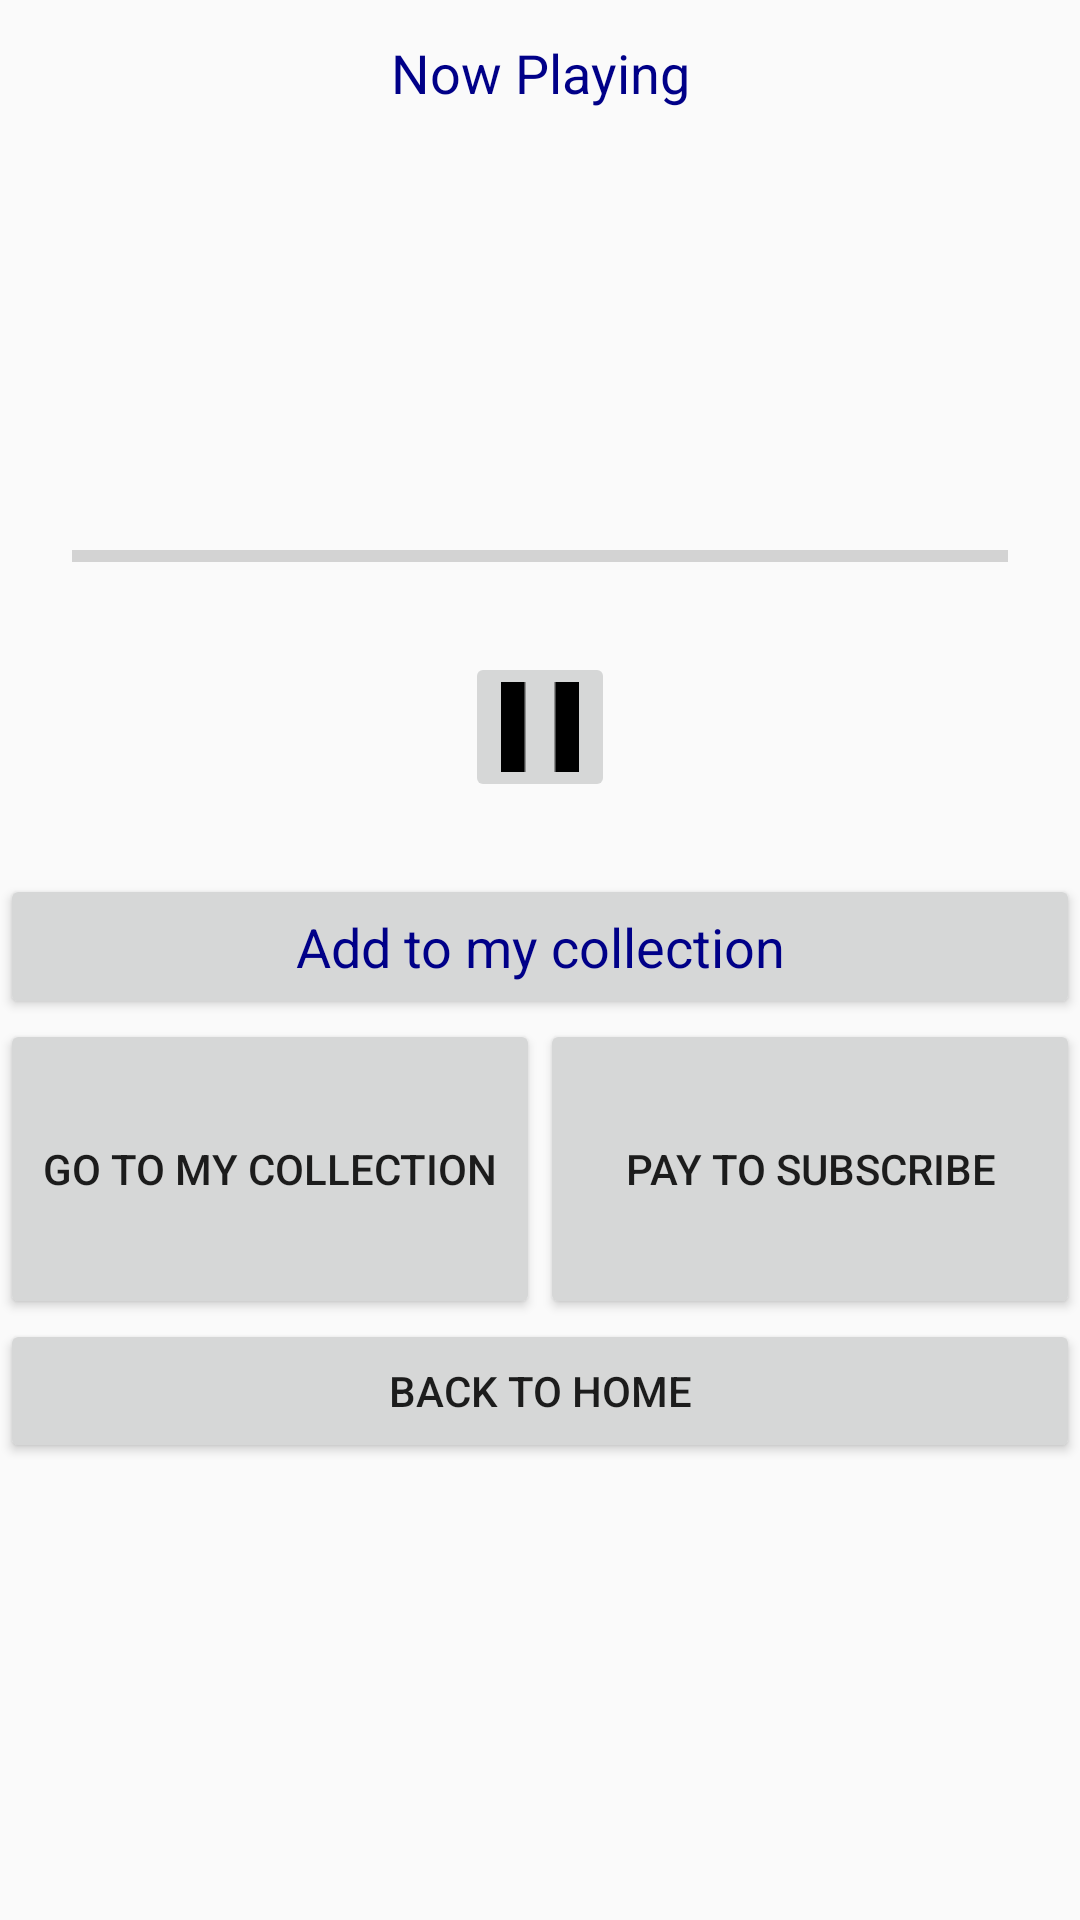

Point at icon controls on the screen. Image size 1080px×1920px, points as (x=x, y=y).
pause: (x=540, y=727)
